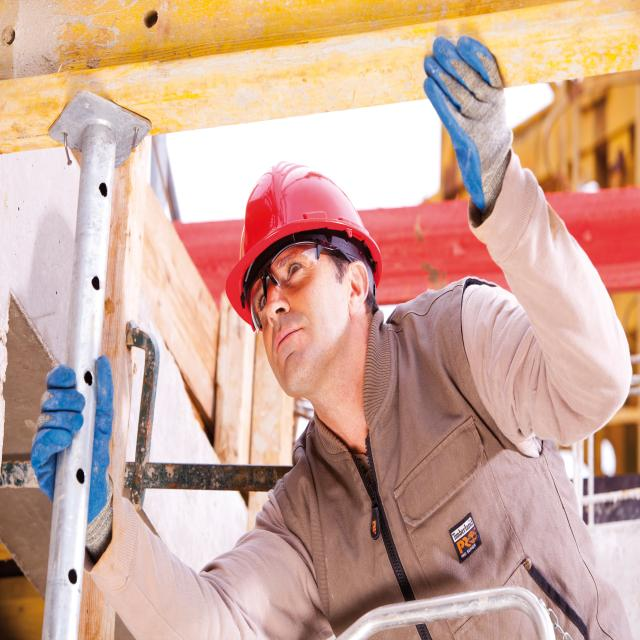gloves: (32, 352, 118, 552), (422, 30, 515, 214)
